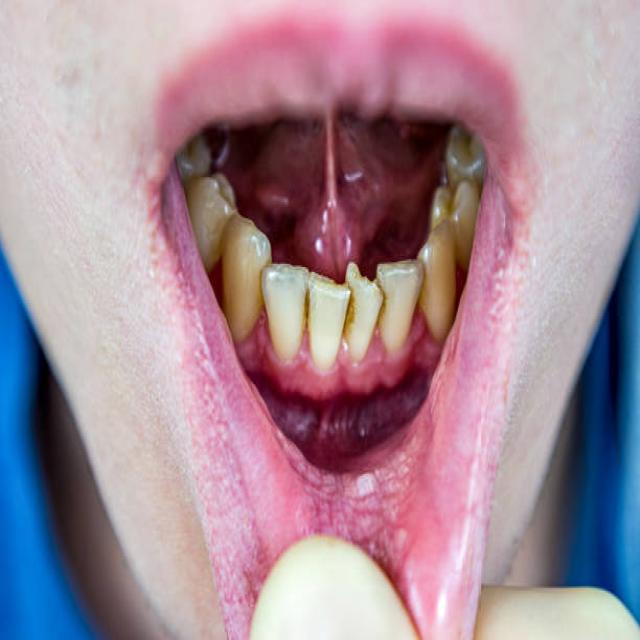Gingivitis: (272, 380, 412, 442)
